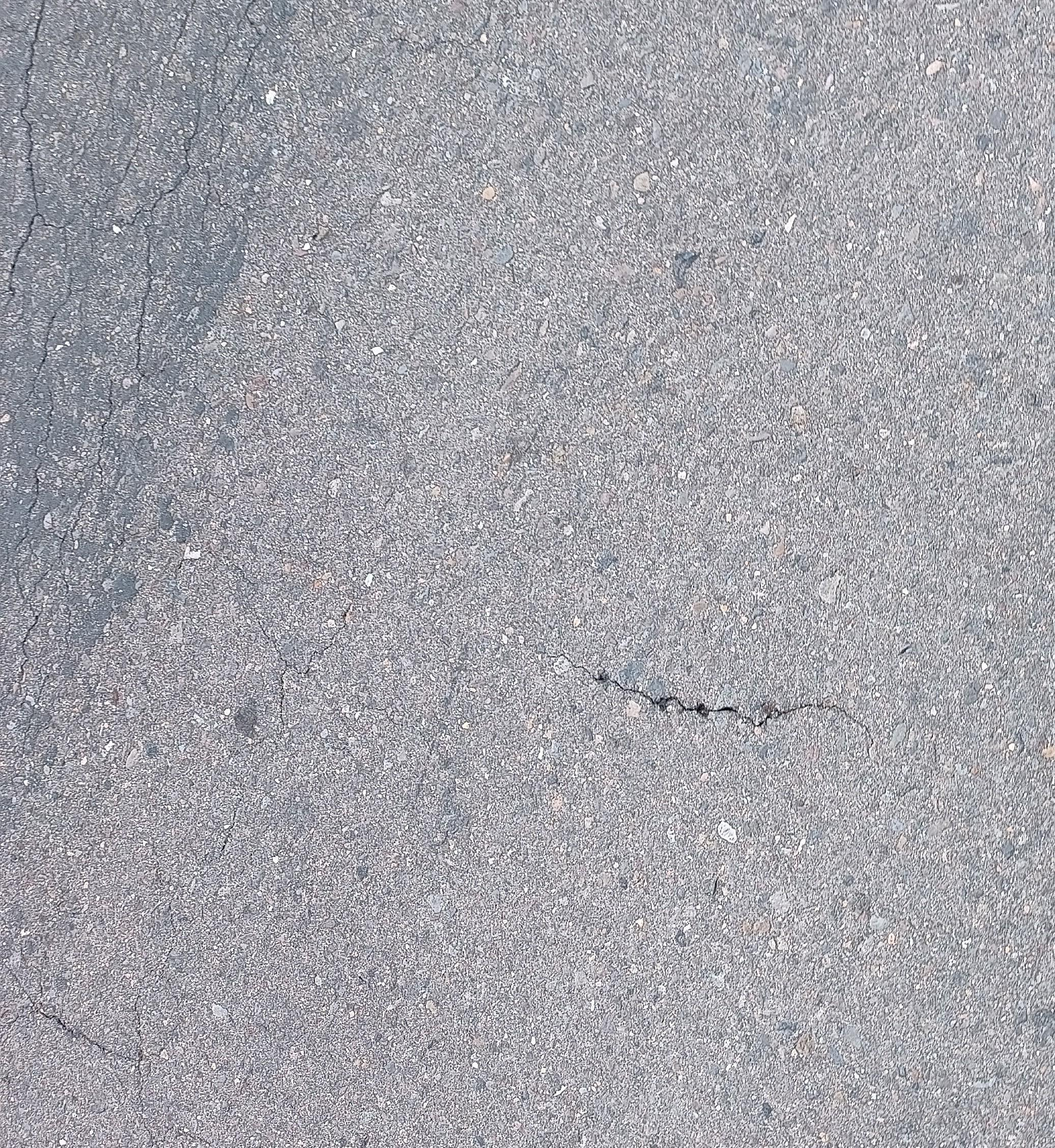GRIETA: (561, 656, 878, 755), (35, 1009, 135, 1063), (133, 995, 154, 1147)
PIEL DE COCODRILO: (0, 0, 320, 752)
